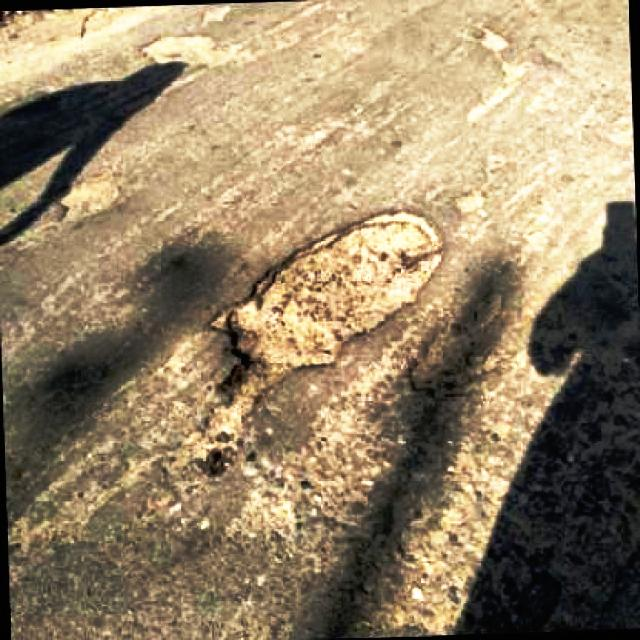pothole: (194, 208, 448, 464), (406, 318, 479, 396), (145, 28, 223, 69)
